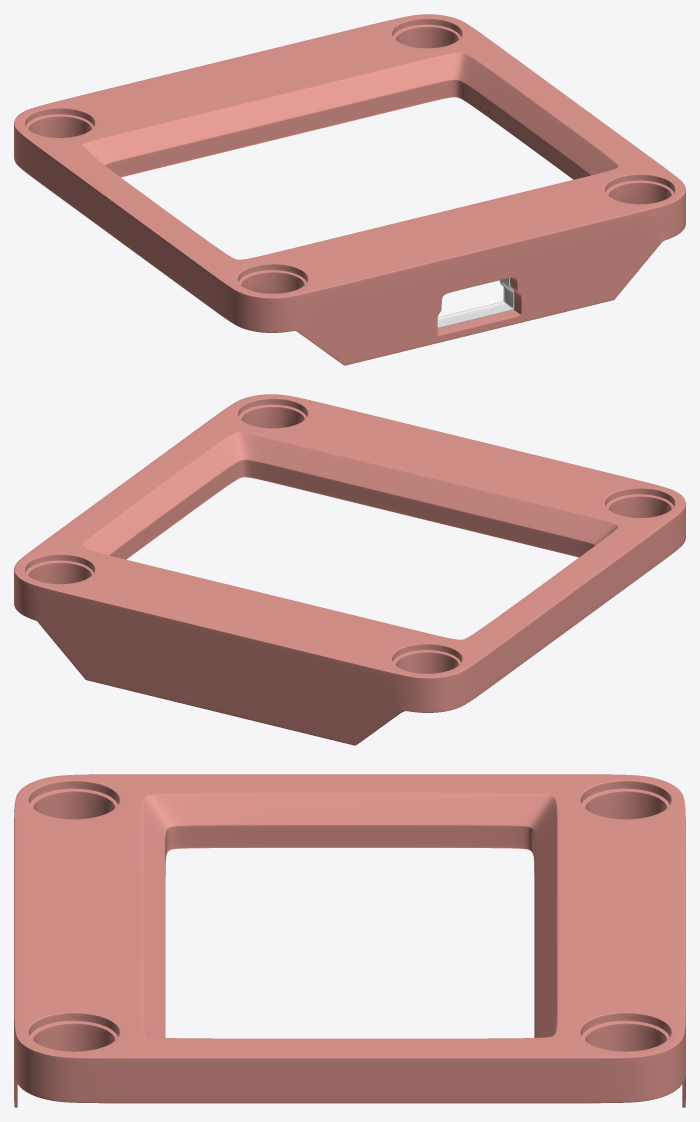
File: top4x4.glb
The picture shows the model from 3 angles, top to bottom: view 1: azimuth 30°, elevation 25°; view 2: azimuth 150°, elevation 25°; view 3: azimuth 270°, elevation 25°; orthographic projection. The views are drawn at different scales.
Visible parts, largest first — view 1: top4x4; view 2: top4x4; view 3: top4x4.
Part boxes in pixels (box(x1,y1,x2,y2)): top4x4: box(14, 14, 685, 365); top4x4: box(14, 394, 685, 745); top4x4: box(14, 774, 685, 1107).
Bounding box in the file's own units: 0.04 × 0.007 × 0.04.
